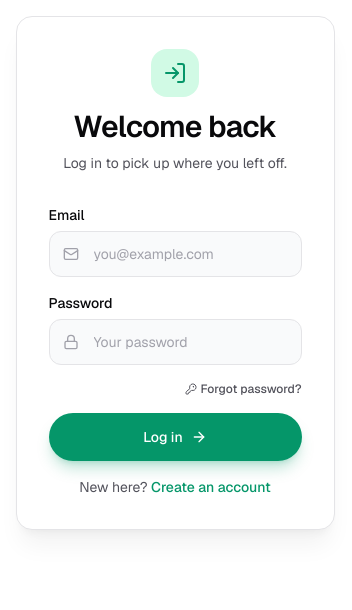
Test: LoginForm › shows the server error message when sign in fails
Type "ada@example.com" into the field labelled "Email" at (175, 254), box [48,231,302,277]
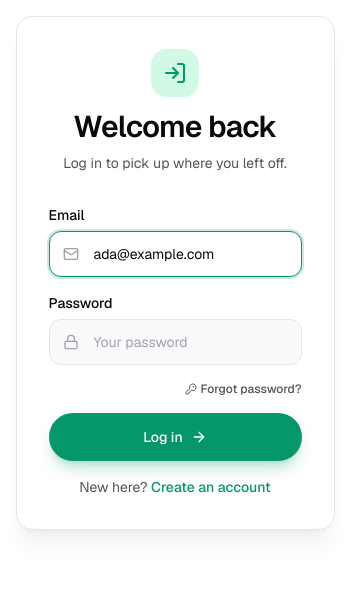
Type "wrong-password" into the password field labelled "Password" at (175, 342), box [48,319,302,365]
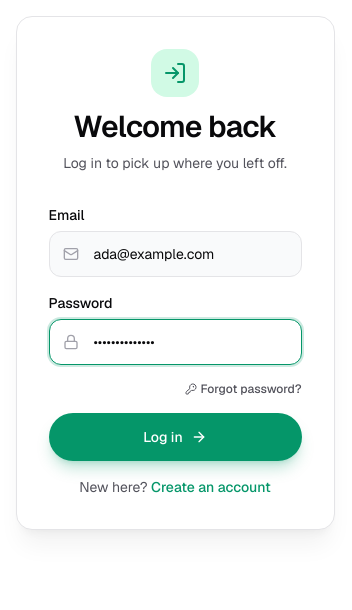
Click the button "Log in" at (175, 437), box [48,413,302,461]
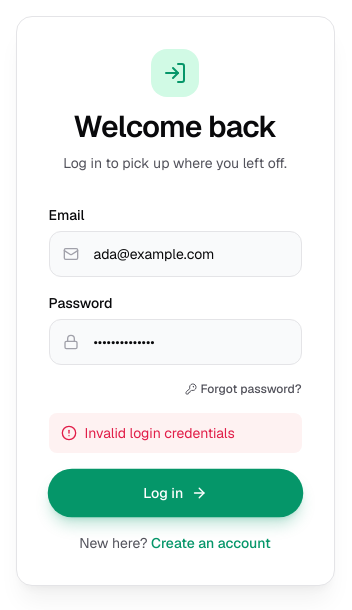
Now the text "Invalid login credentials" is shown, box [48,413,302,453]
